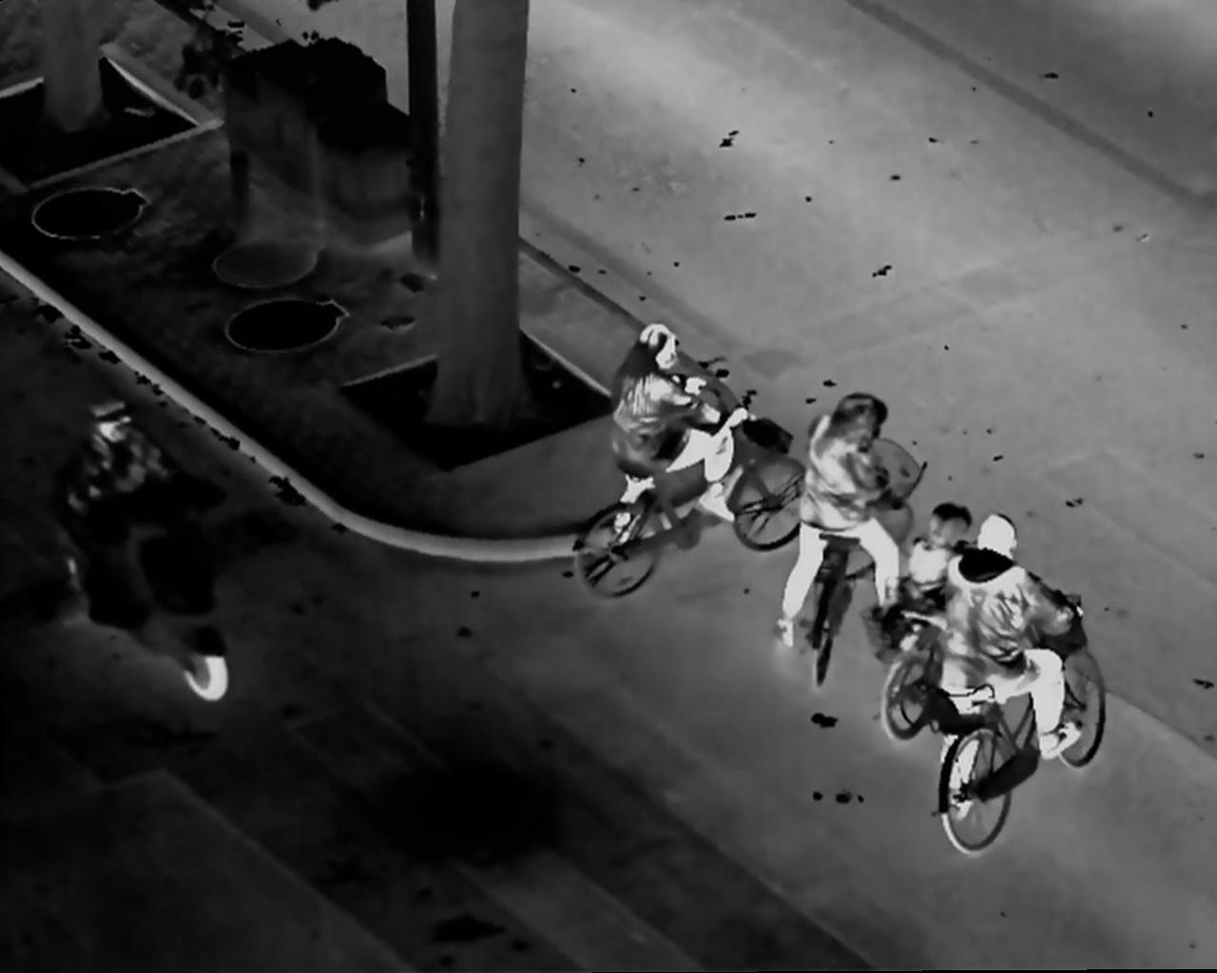person: (937, 510, 1090, 819), (772, 392, 904, 647), (608, 318, 753, 545), (46, 391, 178, 618), (886, 499, 978, 696)
